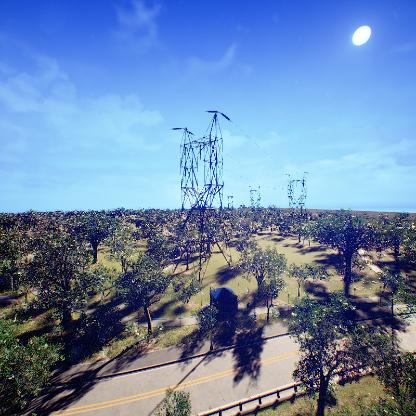tower: (169, 106, 235, 290), (280, 168, 311, 242)
